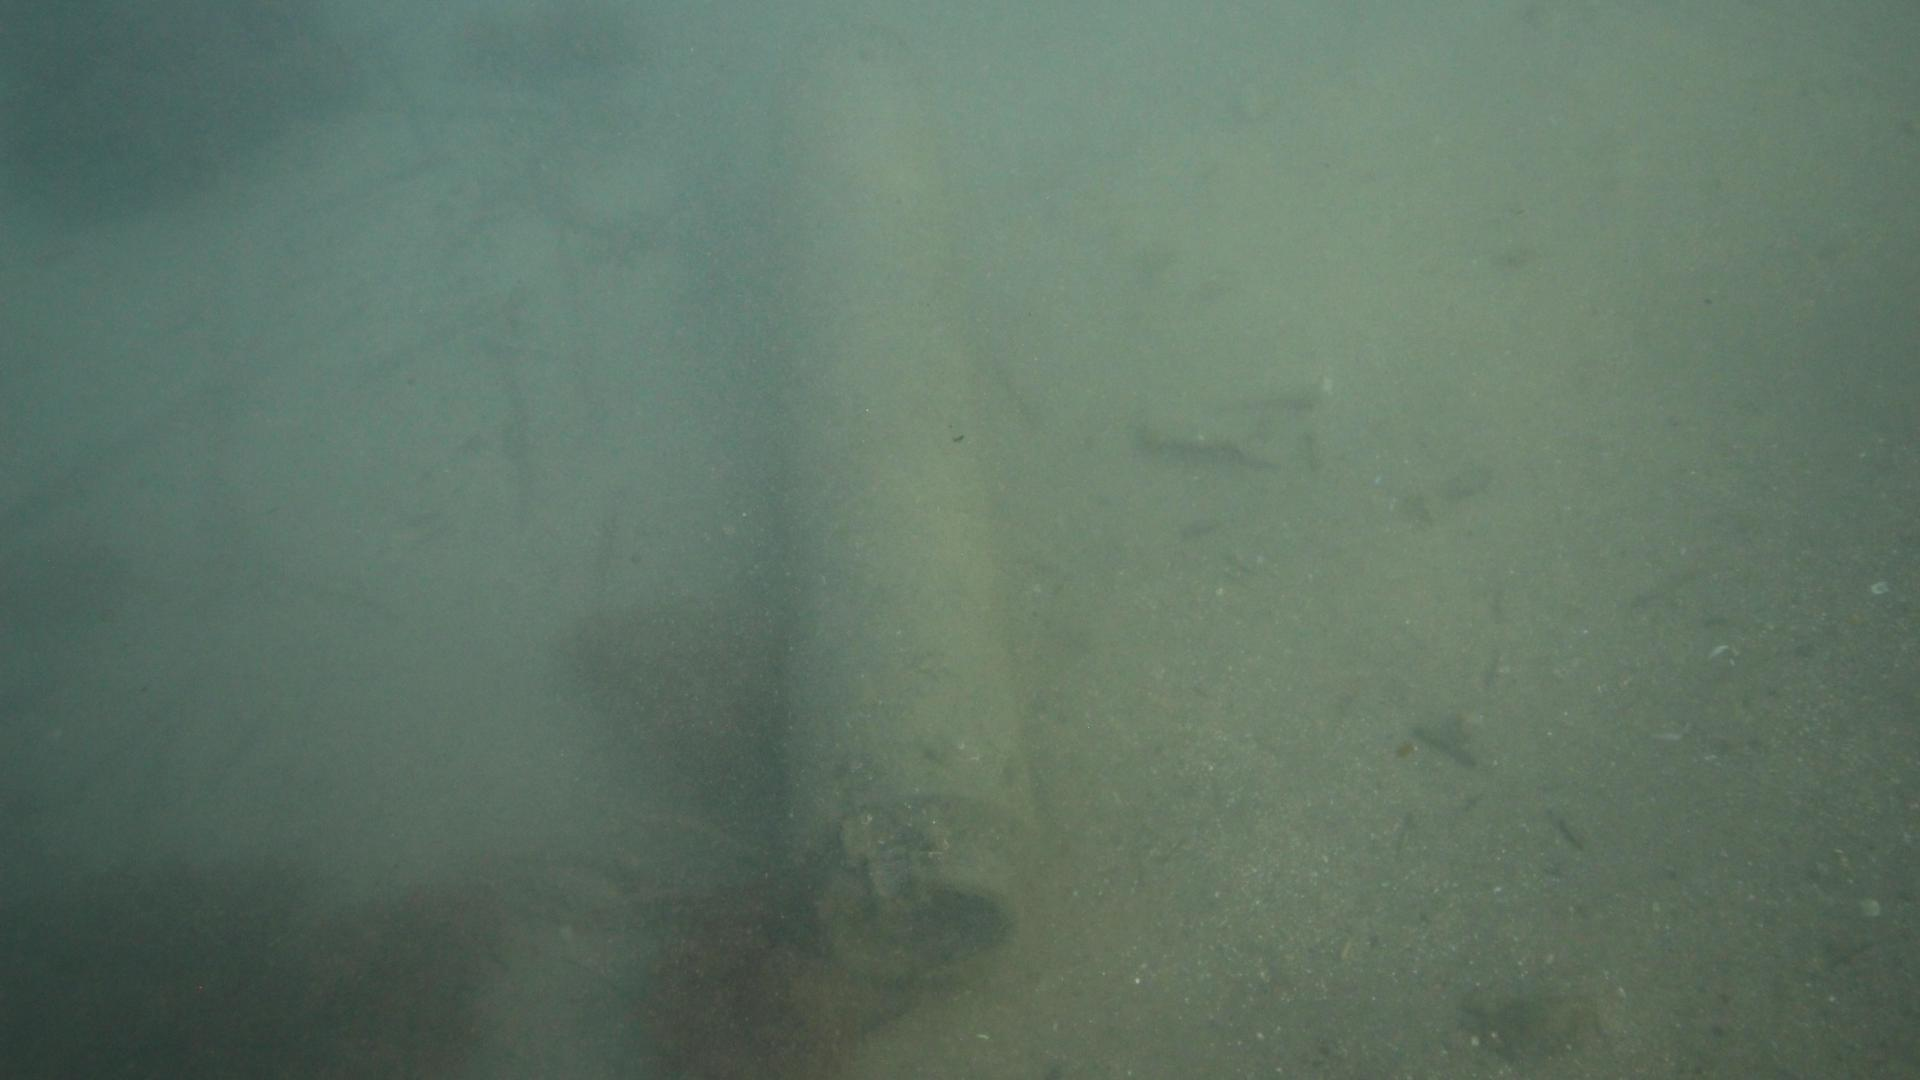eel fish trap: (771, 22, 1043, 980)
